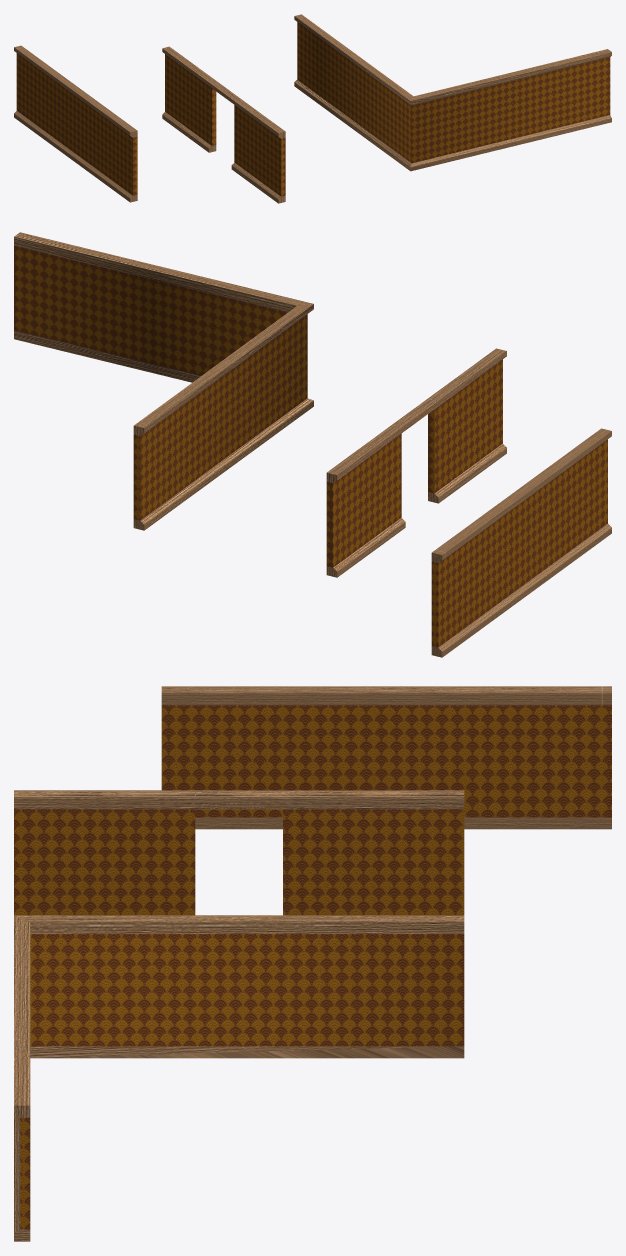
File: wallSet2.FBX
3 views of the same model, one above another, from view 1: azimuth 30°, elevation 25°; view 2: azimuth 150°, elevation 25°; view 3: azimuth 270°, elevation 25° (orthographic). The views are drawn at different scales.
Parts seen in each view (by area): view 1: Box002, Box001, Box003; view 2: Box002, Box001, Box003; view 3: Box002, Box001, Box003.
Part boxes in pixels (x1=…): Box002: x1=294, y1=14, x2=611, y2=171; Box001: x1=14, y1=45, x2=137, y2=202; Box003: x1=162, y1=46, x2=285, y2=203; Box002: x1=14, y1=232, x2=313, y2=530; Box001: x1=431, y1=428, x2=611, y2=657; Box003: x1=326, y1=348, x2=506, y2=577; Box002: x1=14, y1=915, x2=464, y2=1241; Box001: x1=161, y1=686, x2=611, y2=829; Box003: x1=14, y1=790, x2=464, y2=915.
Size of the model in its own units: 793 by 120 by 478.
1 material, 1 textured.
